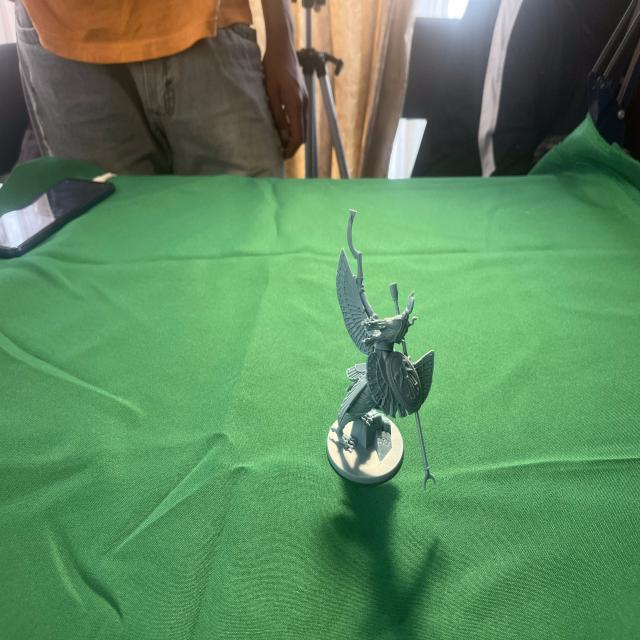isis: (328, 204, 447, 508)
